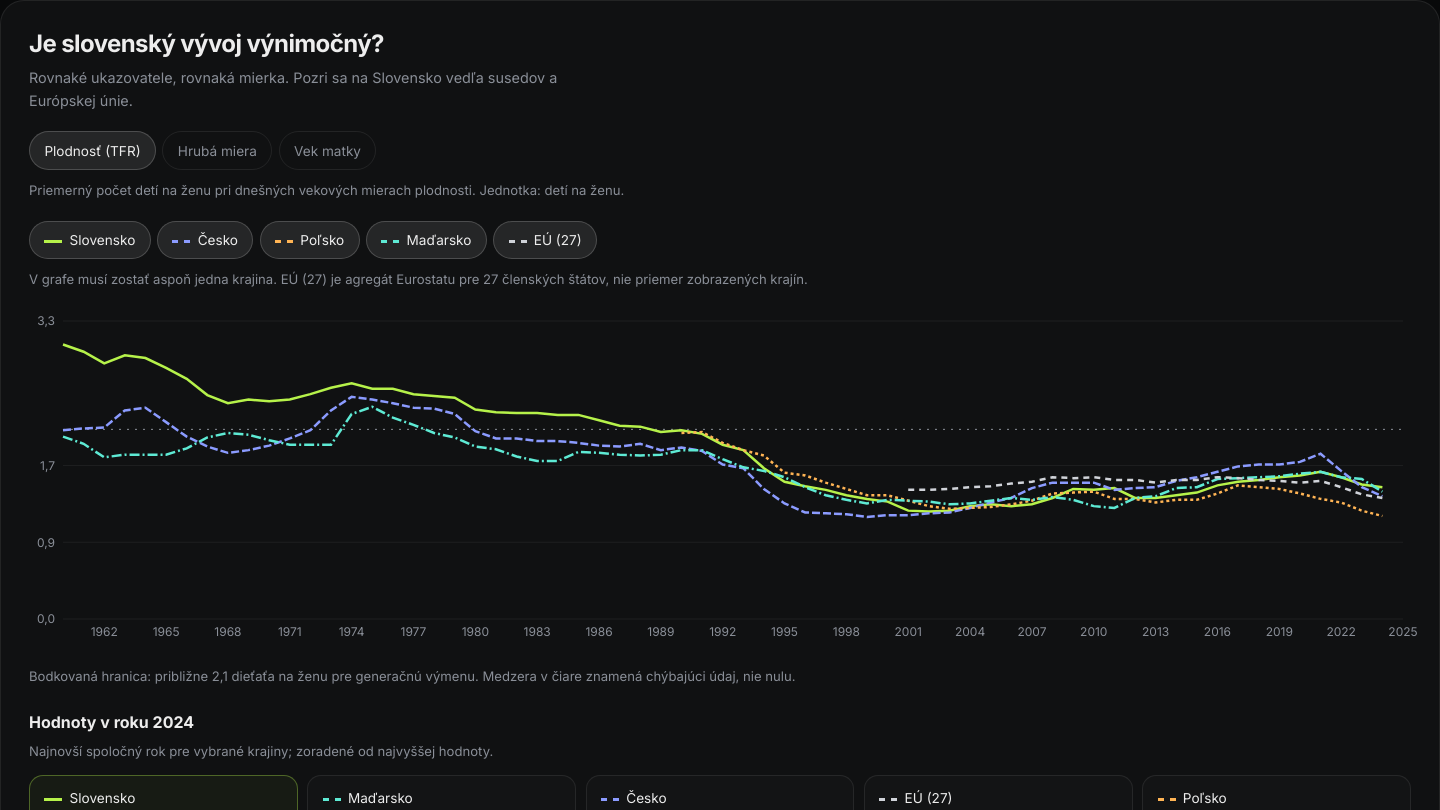
Test: country filtering updates chart and table and prevents an empty selection
The image size is (1440, 810).
Click the button "Česko". click: x=205, y=240
box: [157, 220, 253, 259]
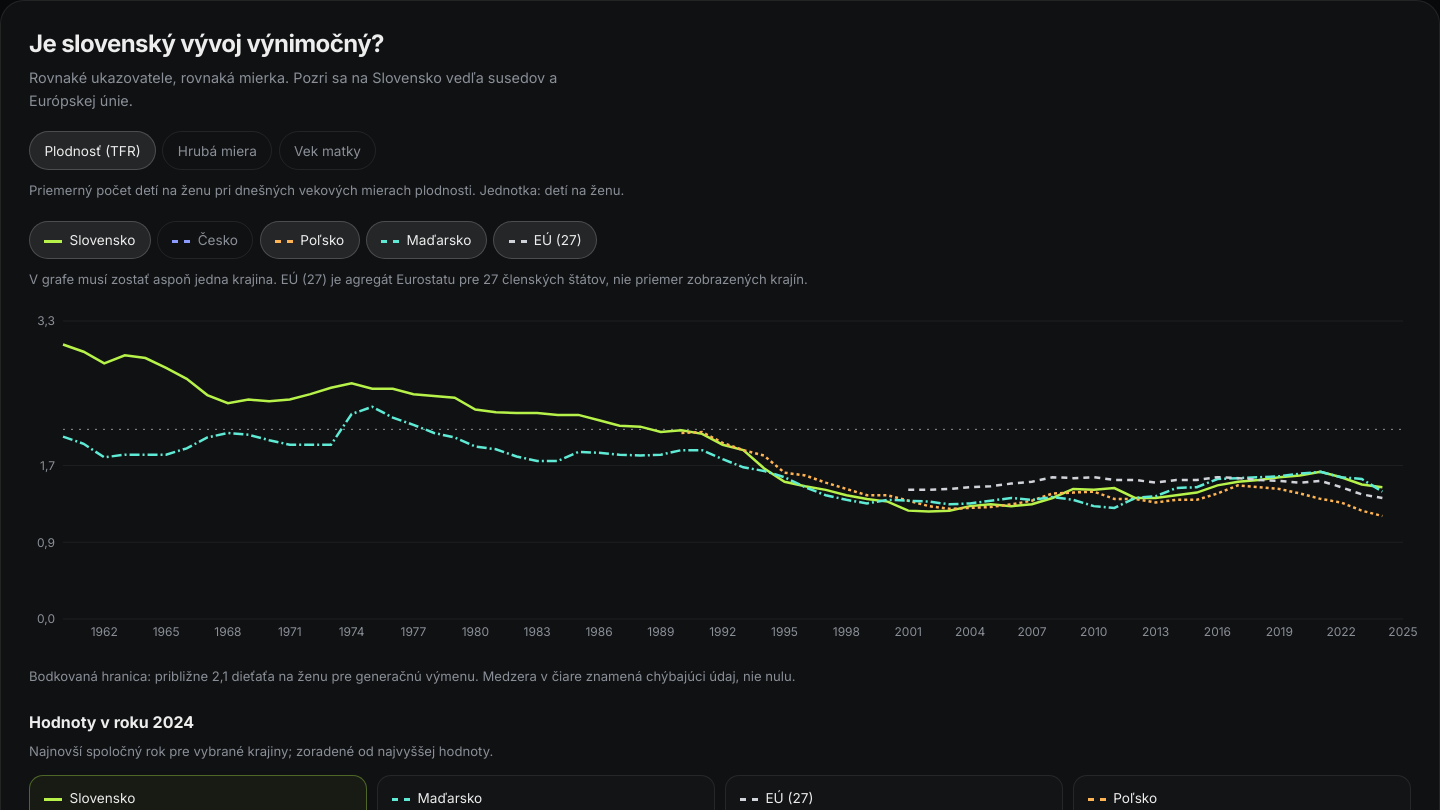
Click the button "Poľsko". click: x=310, y=240
box: [260, 220, 360, 259]
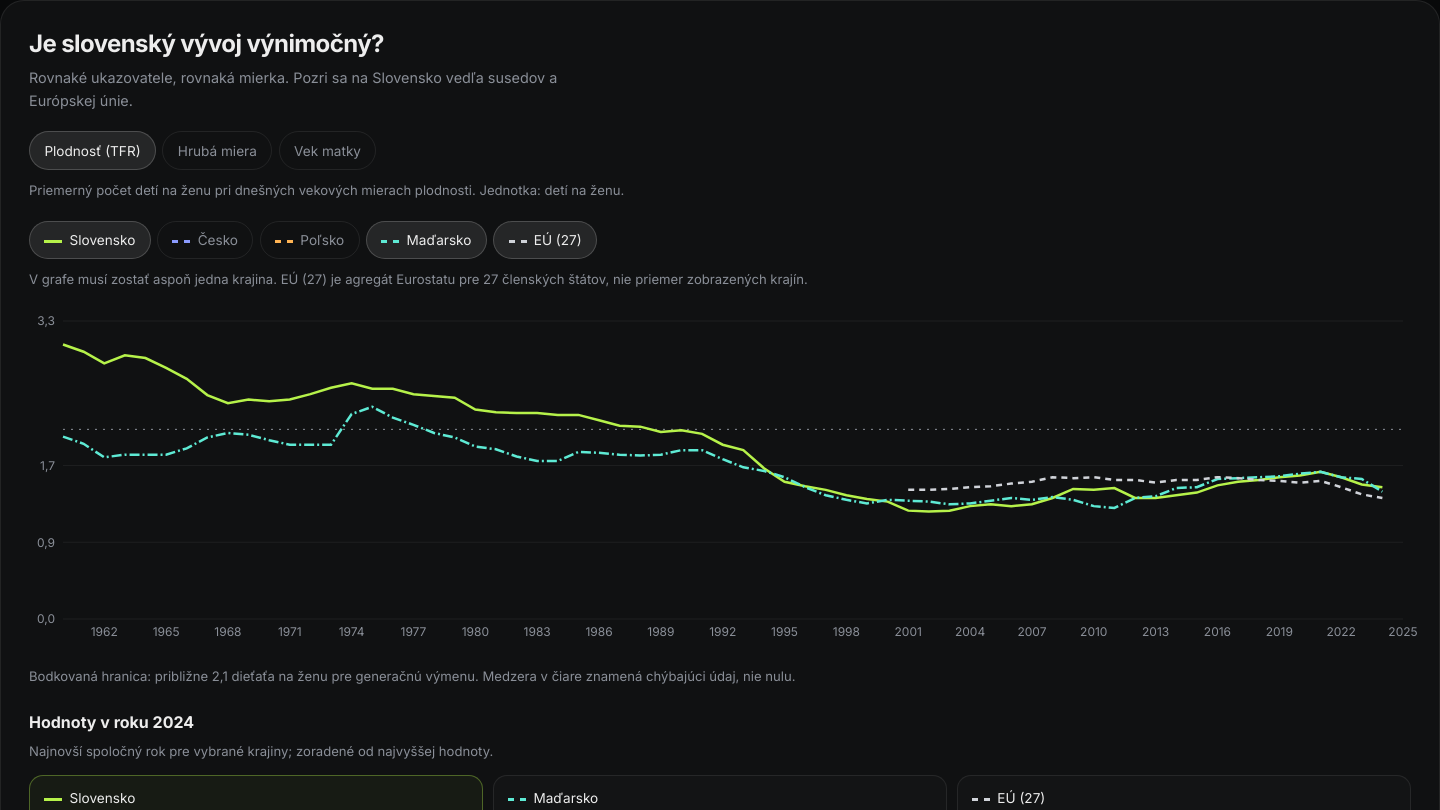
Click the button "Maďarsko". click: x=426, y=240
box: [366, 220, 487, 259]
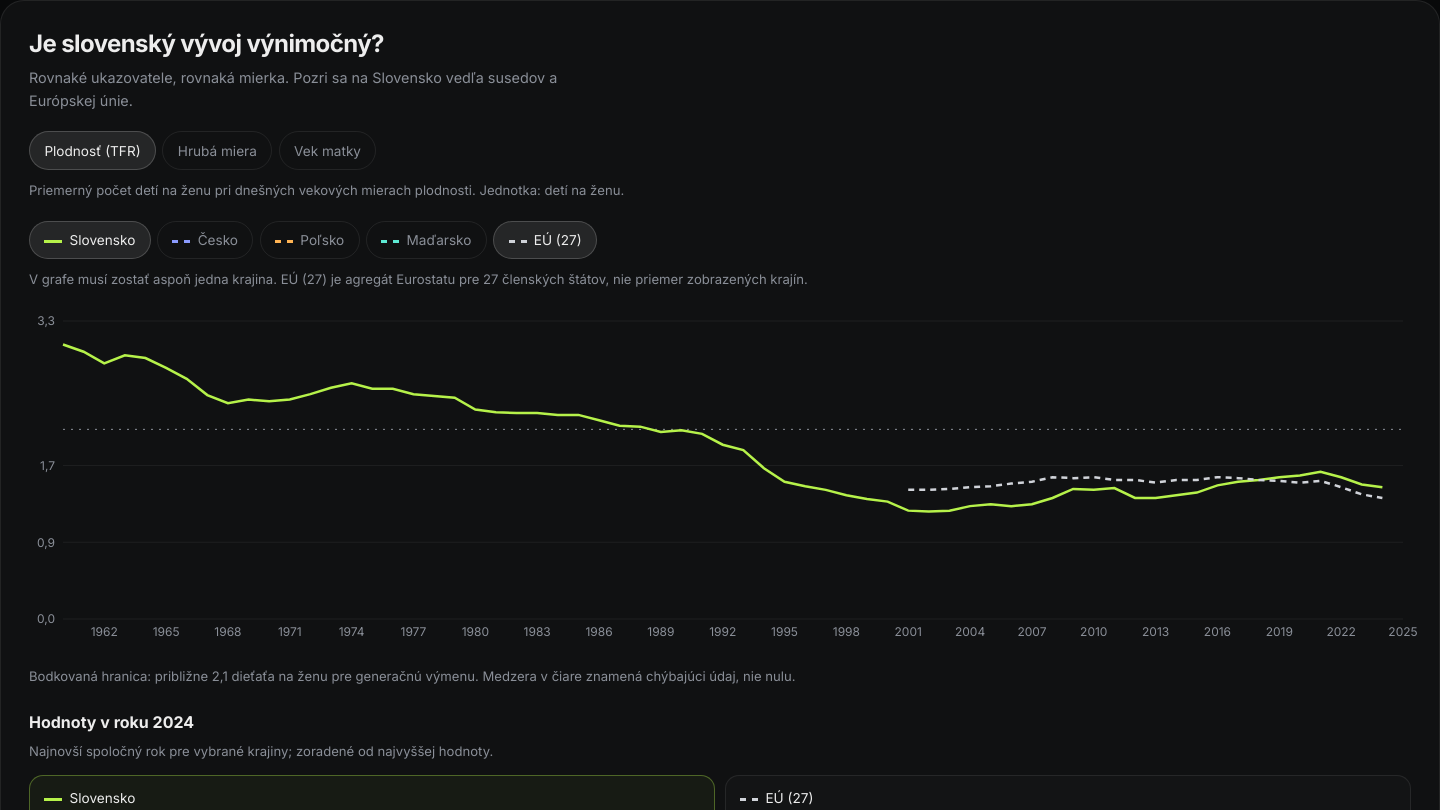
Click the button "EÚ (27)". click: x=545, y=240
box: [493, 220, 597, 259]
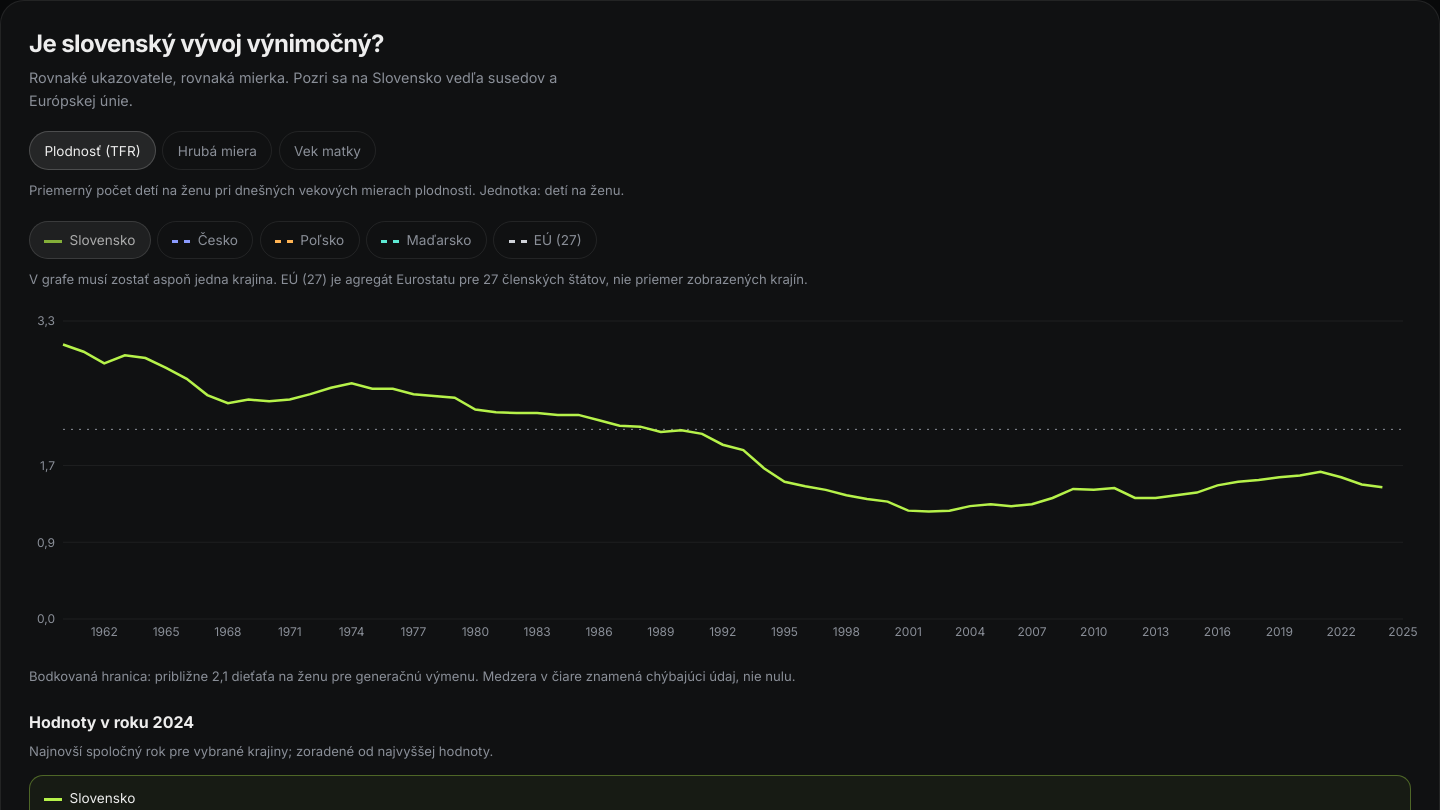
Check: the button "Slovensko" is disabled, box [29, 220, 151, 259]
Click the button "Česko". click: x=205, y=240
box: [157, 220, 253, 259]
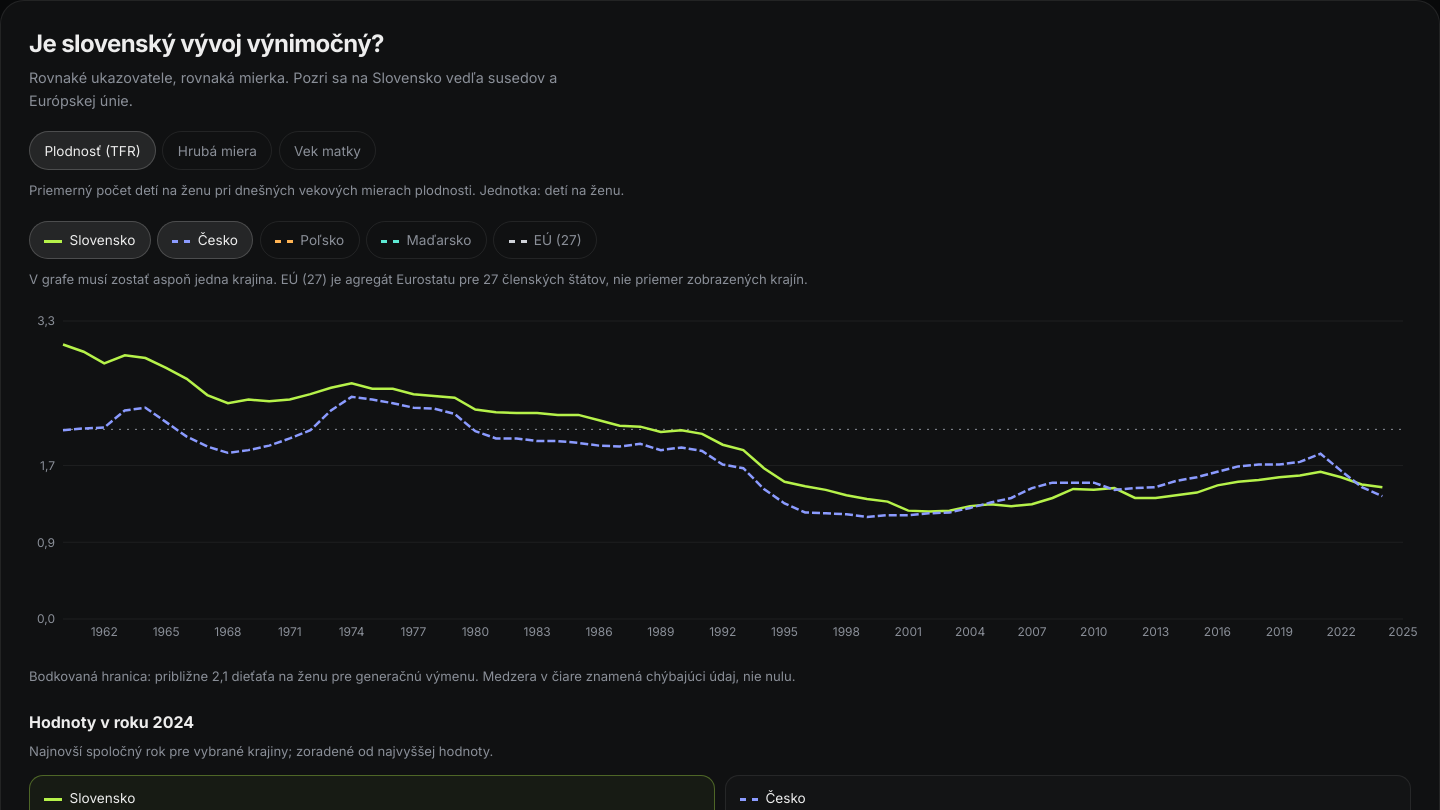
Check: the button "Slovensko" is enabled, box [29, 220, 151, 259]
